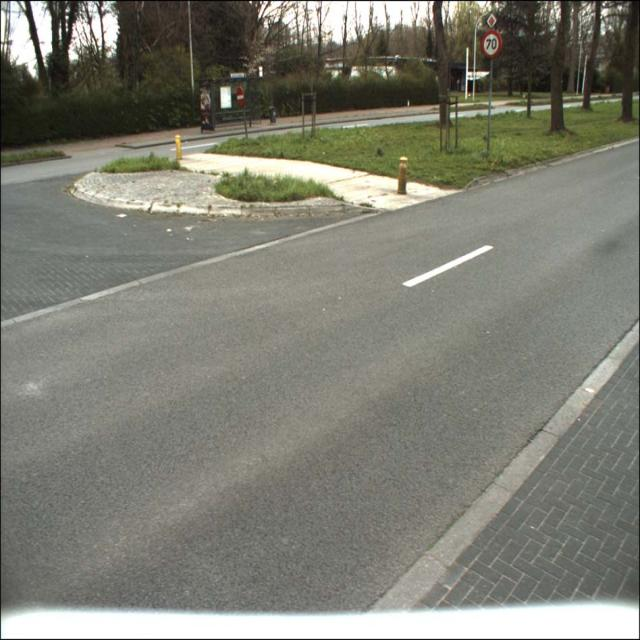girisyok: (237, 85, 244, 108)
